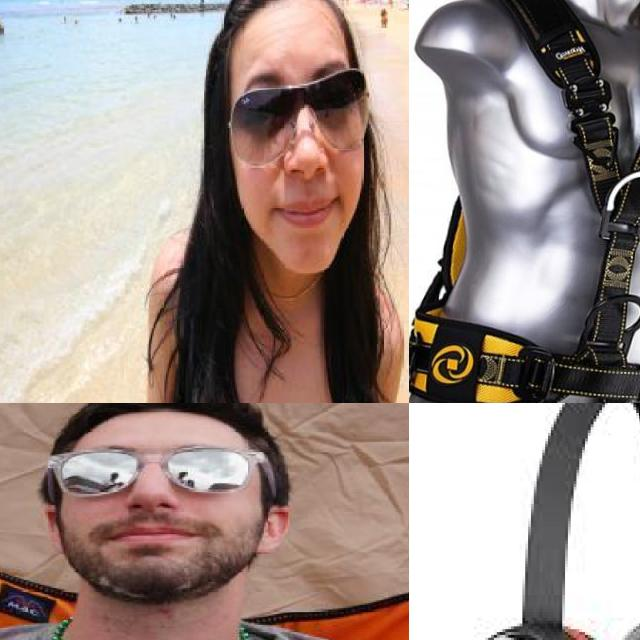Harness: (409, 0, 640, 403)
No_Ear-Protection: (252, 490, 294, 572)
face_nomask: (57, 438, 251, 567), (238, 69, 366, 242)
glasses: (47, 435, 285, 496), (237, 66, 378, 162)
head_nohelmet: (58, 403, 261, 436), (220, 0, 349, 34)
person: (124, 0, 409, 403), (0, 403, 409, 640)
